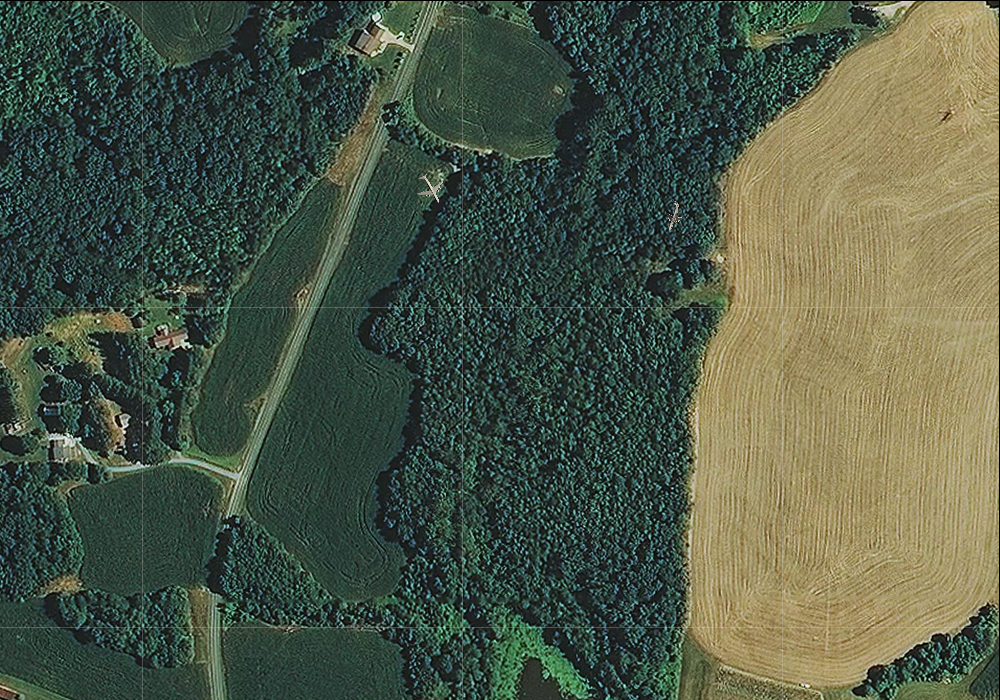plane: (409, 167, 451, 209), (655, 196, 690, 234)
